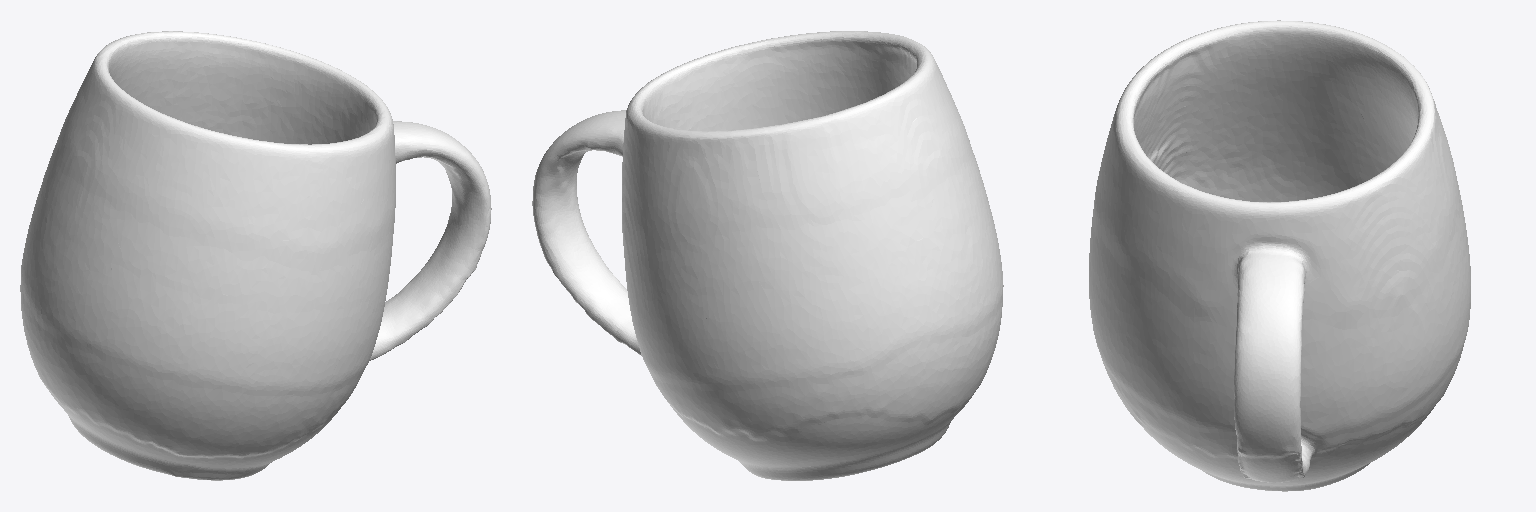
URDF robot description (model.urdf):
<robot name="model.urdf">
    <link name="baseLink">
        <contact>
            <lateral_friction value="0.42"/>
            <rolling_friction value="1"/>
            <spinning_friction value="1"/>
            <contact_cfm value="0.0"/>
            <contact_erp value="1.0"/>
        </contact>
        <inertial>
            <origin rpy="0.02 0.23 0" xyz="0.00 0.00 0.0"/>
            <mass value="1.2"/>
            <inertia ixx="1e-3" ixy="0" ixz="0" iyy="1e-3" iyz="0" izz="1e-3"/>
        </inertial>
        <visual>
            <geometry>
                <mesh filename="nontextured.stl" scale="1 1 1"/>
            </geometry>
            <material name="white">
                <color rgba="1 1 1 1"/>
            </material>
        </visual>
        <collision>
            <geometry>
                <mesh filename="nontextured.stl" scale="1 1 1"/>
            </geometry>
        </collision>
    </link>
</robot>

--- Render facts (derived) ---
3 views of the same robot in one strip: view 1: azimuth 30°, elevation 25°; view 2: azimuth 150°, elevation 25°; view 3: azimuth 270°, elevation 25° (orthographic).
Robot: model.urdf — 1 links, 0 joints (none); root link baseLink; default pose: every joint at zero.
Links seen in each view (by area): view 1: baseLink; view 2: baseLink; view 3: baseLink.
Boxes of the visible links, x1,y1,x2,y2 form: baseLink: (20,31,491,480); baseLink: (532,31,1003,480); baseLink: (1089,20,1470,491).
Size in the robot's own frame: 0.1398 by 0.1028 by 0.1194 metres.
Meshes: 1 distinct files referenced, 1 mesh visuals loaded (1 binary STL).